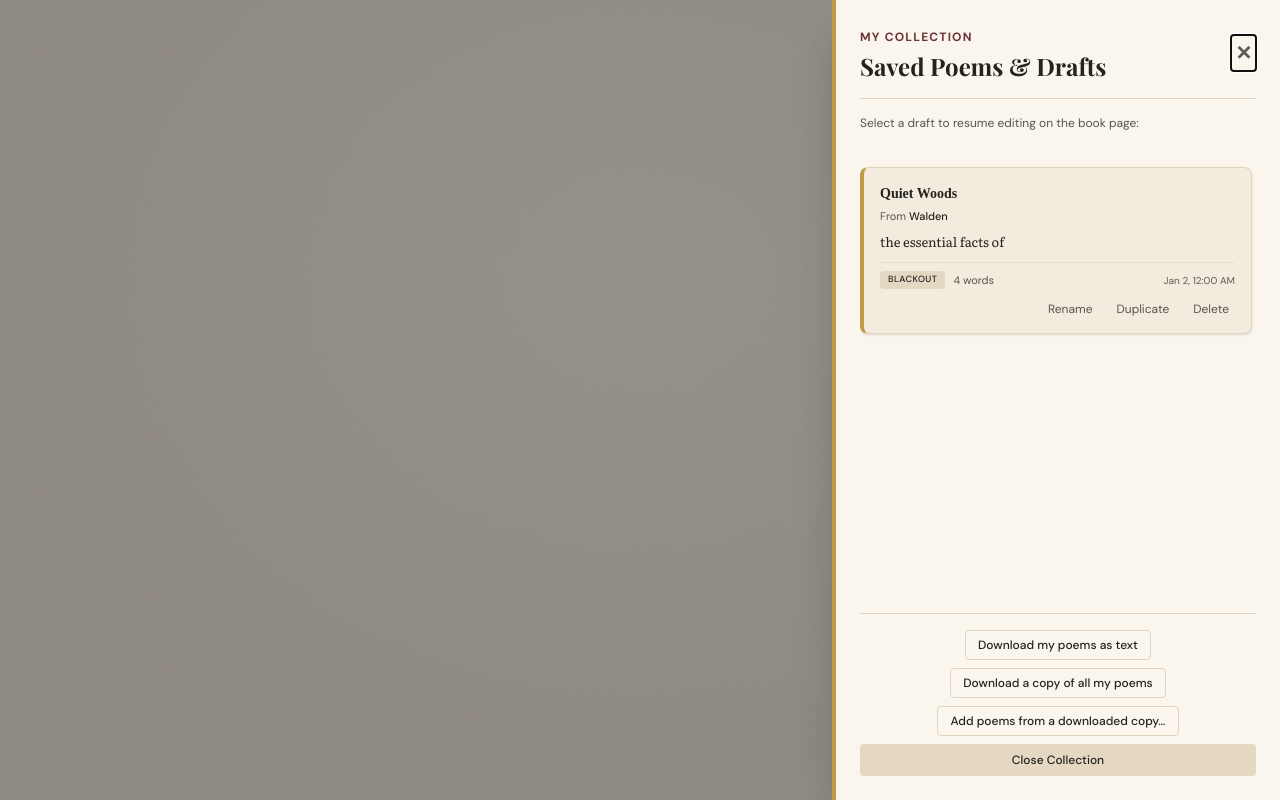
Test: backing up from My Collection › uses the singular for one poem
The width and height of the screenshot is (1280, 800).
Click the button "Download a copy of all my poems".
click(1058, 683)  # box [950, 668, 1166, 698]
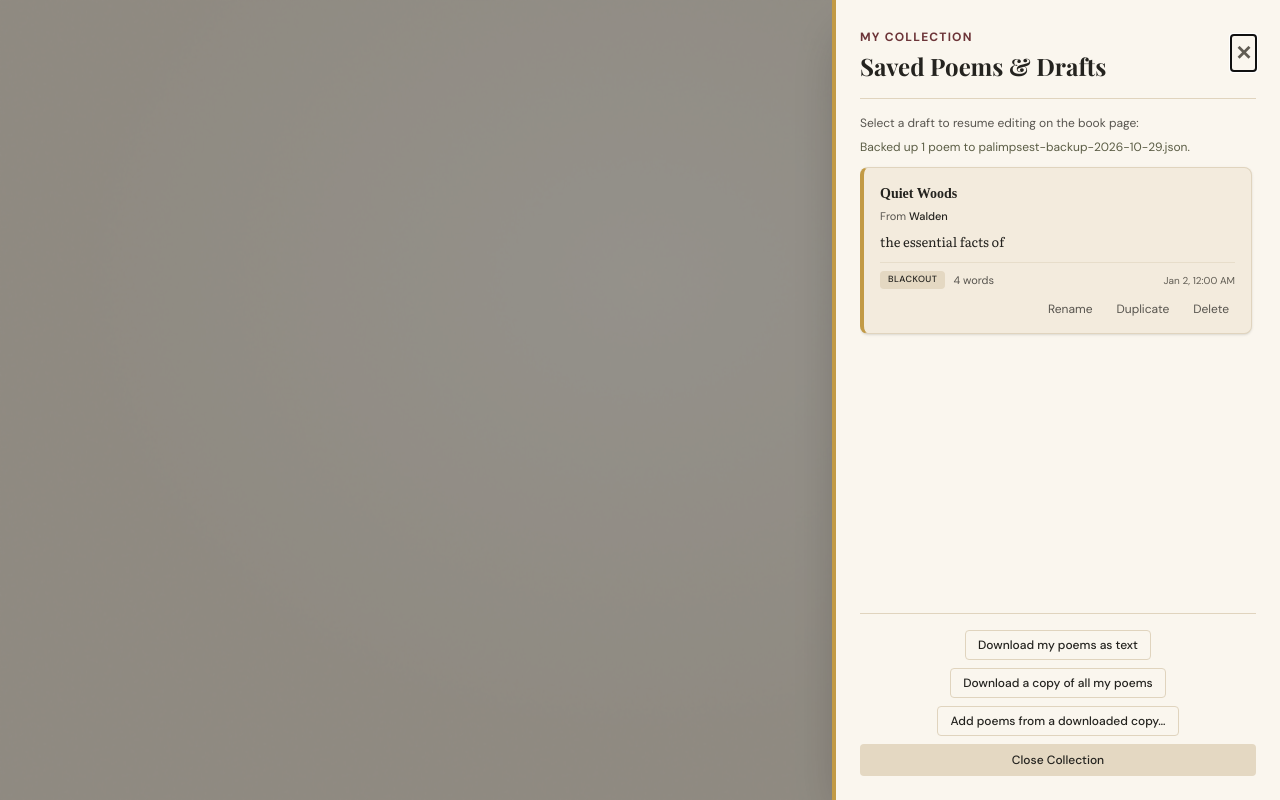
Now the message "Backed up 1 poem to palimpsest-backup-2026-10-29.json." is shown, box [860, 139, 1190, 155]
